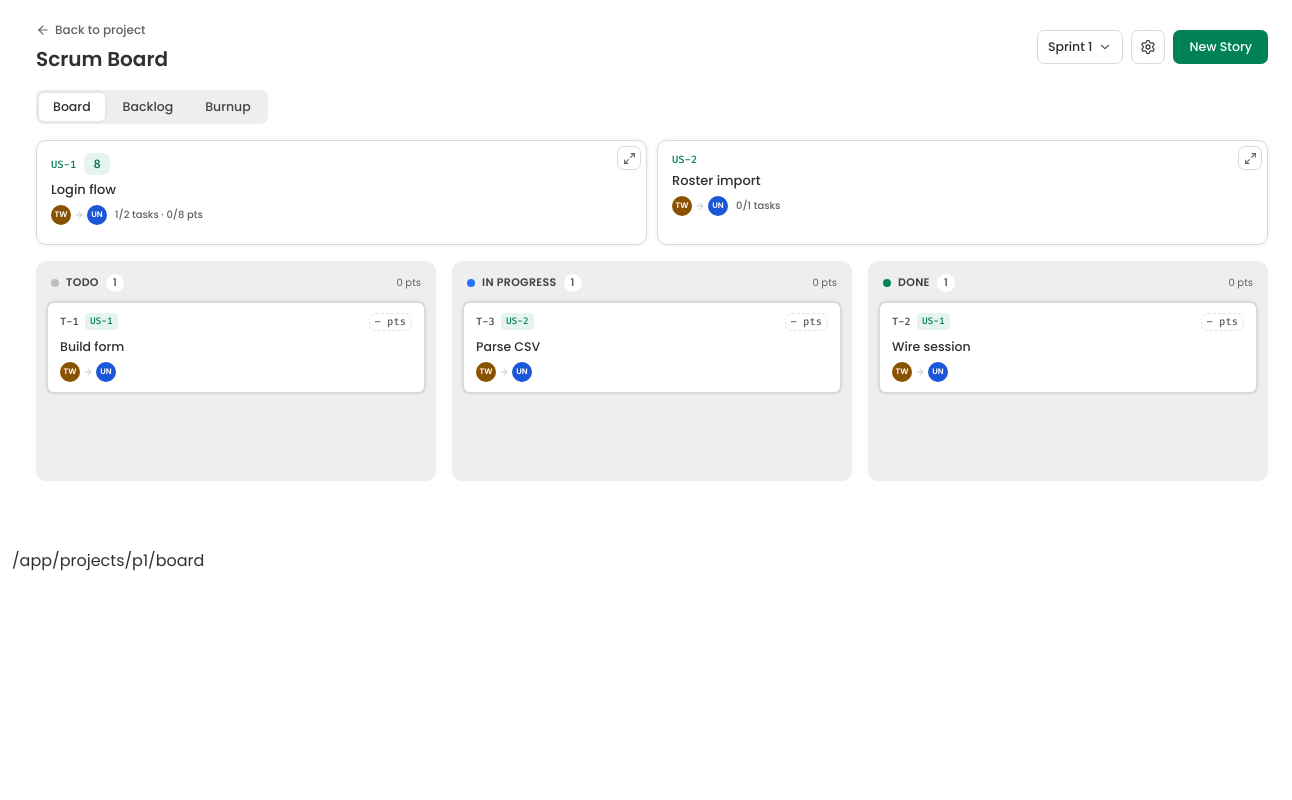
Test: ScrumBoardPage new sprint › still offers New sprint below the class limit
Step 1. Click the button with aria-label "Sprint: Sprint 1" → (1080,47), box [1037, 30, 1123, 64]
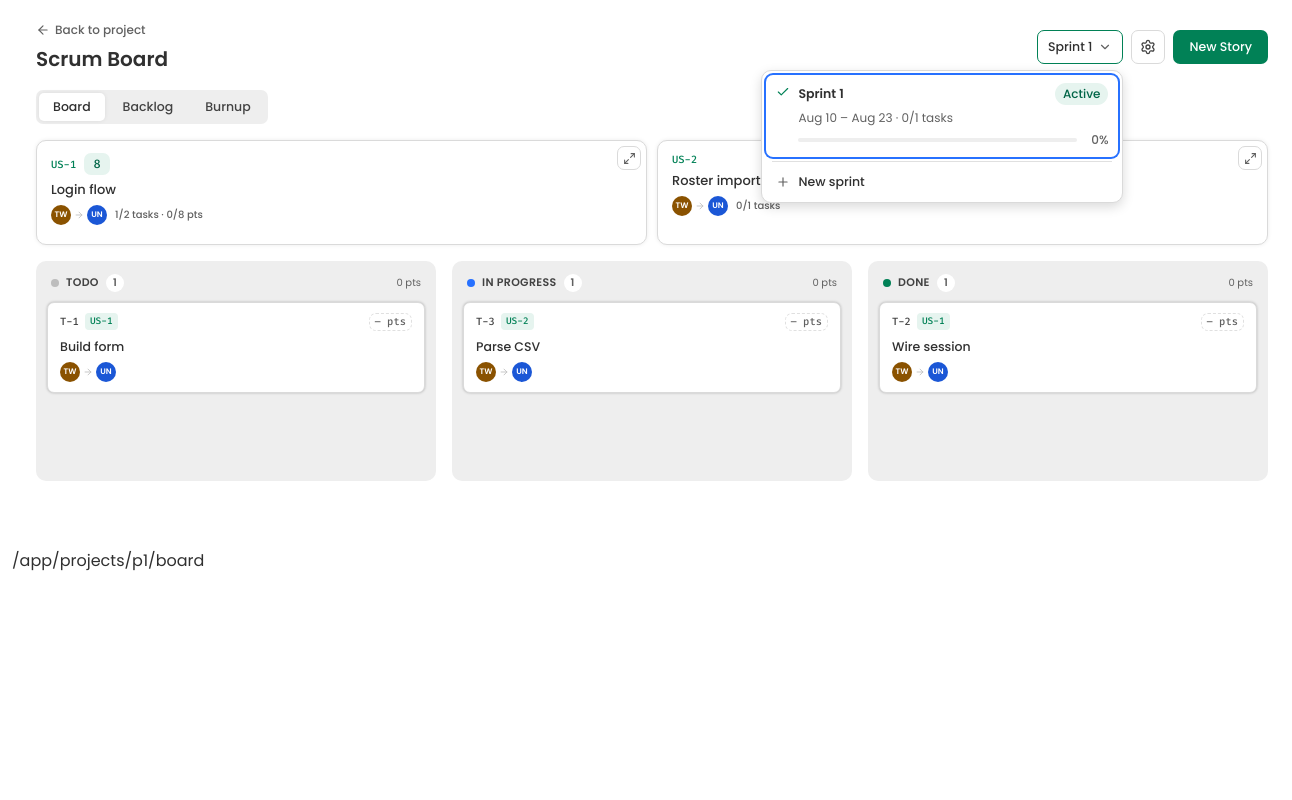
Expected: the menu item "New sprint" is shown, [766, 166, 1118, 198]
